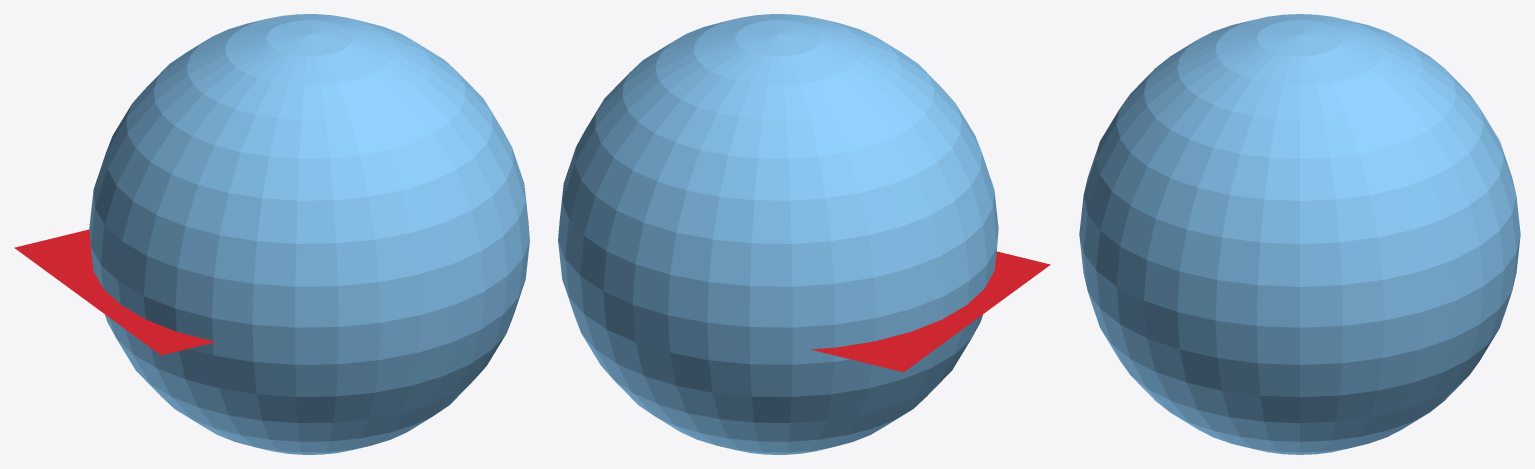
The model's file is test-zone2.glb.
The picture shows the model from 3 angles, left to right: view 1: azimuth 30°, elevation 25°; view 2: azimuth 150°, elevation 25°; view 3: azimuth 270°, elevation 25°; orthographic projection.
Visible parts, largest first — view 1: SkyBox.001, DeathPlane.001; view 2: SkyBox.001, DeathPlane.001; view 3: SkyBox.001.
Part boxes in pixels (box(x1,y1,x2,y2)): SkyBox.001: box(89, 14, 529, 454); DeathPlane.001: box(14, 229, 215, 355); SkyBox.001: box(558, 14, 998, 454); DeathPlane.001: box(810, 251, 1050, 372); SkyBox.001: box(1079, 14, 1520, 454).
Bounding box in the file's own units: 630 × 600 × 600.
Materials: 17 (16 with a texture image).
